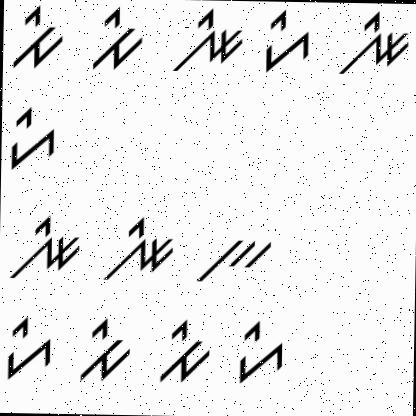hi: (231, 318, 291, 389), (1, 314, 59, 384), (5, 103, 61, 174), (260, 5, 315, 76)
mbi: (154, 315, 216, 387), (77, 309, 135, 384), (88, 6, 143, 75), (10, 5, 63, 74)
ndi: (3, 213, 84, 285), (334, 7, 411, 80), (168, 6, 246, 77), (102, 214, 178, 284)
